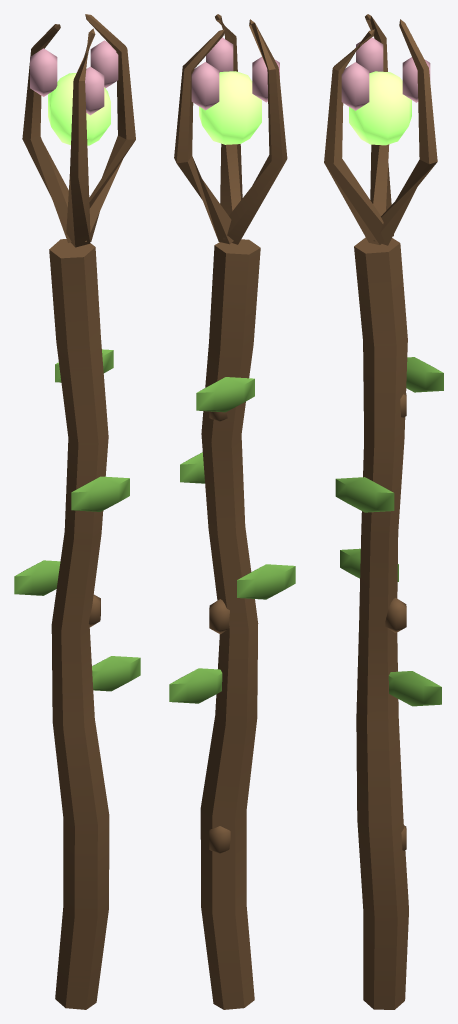
Rendered from living-staff-1.glb.
3 views of the same model, side by side, from view 1: azimuth 30°, elevation 25°; view 2: azimuth 210°, elevation 25°; view 3: azimuth 330°, elevation 25° (orthographic).
Parts seen in each view (by area): view 1: living-staff-1; view 2: living-staff-1; view 3: living-staff-1.
Part boxes in pixels (<box>): living-staff-1: <box>14,14,140,1009</box>; living-staff-1: <box>169,14,295,1009</box>; living-staff-1: <box>324,14,443,1009</box>.
Bounding box in the file's own units: 0.1075 × 0.8852 × 0.0922.
